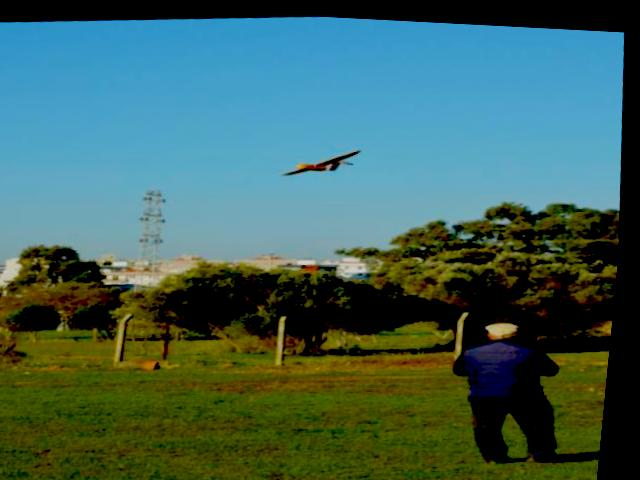iha: (286, 143, 366, 174)
